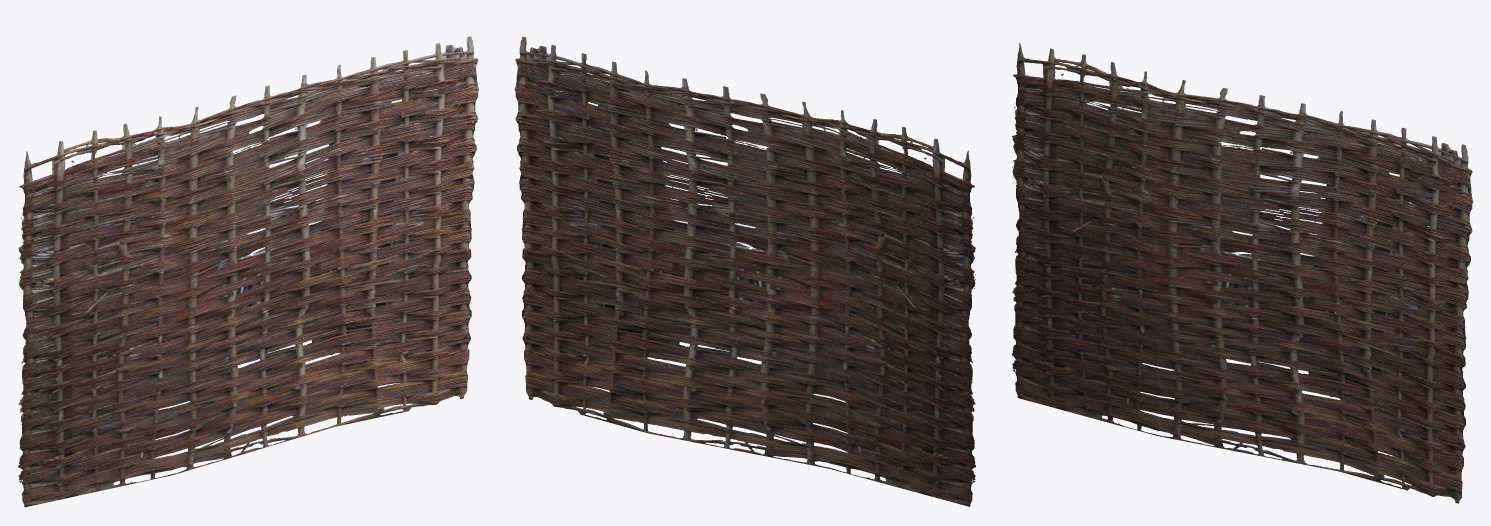
File: ThatchedFence.dae
3 renders of one model, left to right at view 1: azimuth 30°, elevation 25°; view 2: azimuth 150°, elevation 25°; view 3: azimuth 330°, elevation 25°, orthographic.
Parts seen in each view (by area): view 1: meshU3D; view 2: meshU3D; view 3: meshU3D.
Boxes of the visible parts, x1,y1,x2,y2 form: meshU3D: [18, 36, 478, 507]; meshU3D: [514, 36, 975, 506]; meshU3D: [1012, 43, 1473, 503].
Bounding box in the file's own units: 68.76 × 53.76 × 3.4.
